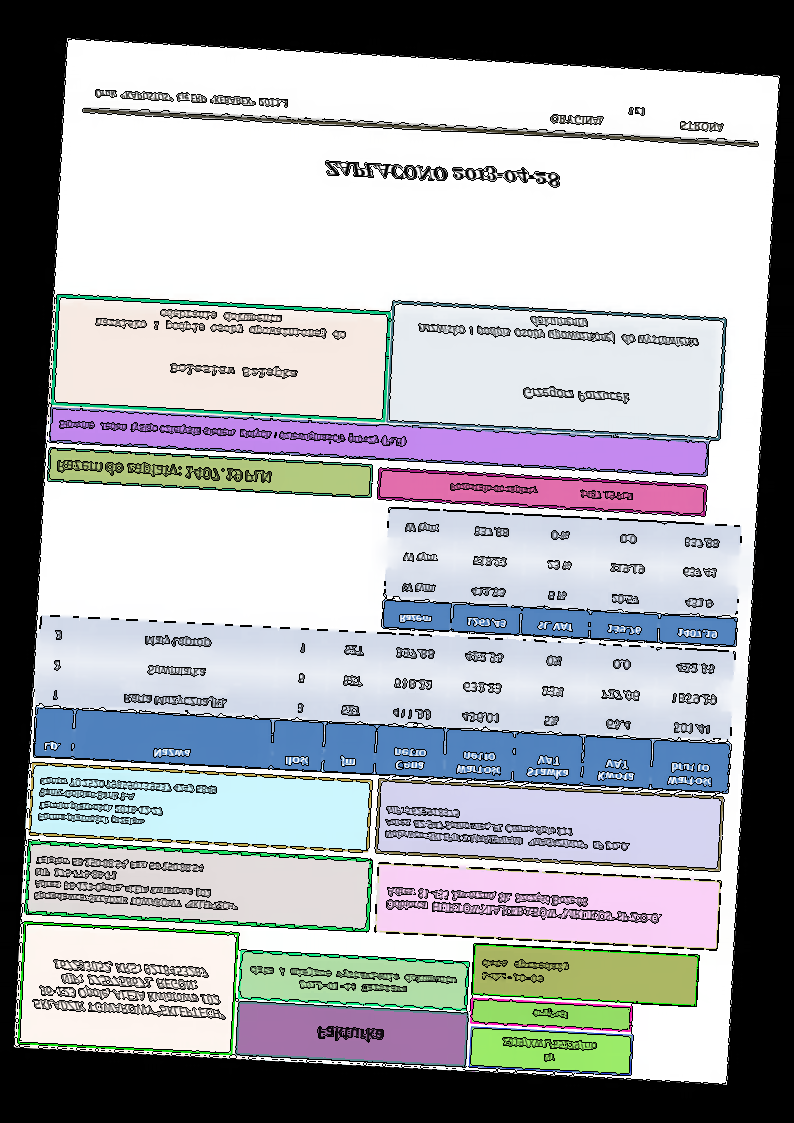Table: (32, 613, 736, 796), (381, 506, 744, 650)
TextBox: (382, 802, 633, 855), (30, 957, 231, 1023), (31, 853, 242, 915), (416, 306, 702, 351), (382, 884, 664, 929), (56, 417, 408, 451), (34, 774, 219, 835), (92, 304, 349, 343), (321, 153, 563, 192), (248, 962, 459, 1000), (53, 456, 273, 488), (547, 99, 728, 137), (92, 85, 291, 112), (446, 479, 636, 505), (166, 358, 298, 385), (499, 1033, 597, 1069), (478, 955, 573, 987), (520, 385, 632, 408), (313, 1023, 386, 1046), (530, 1006, 571, 1022)
